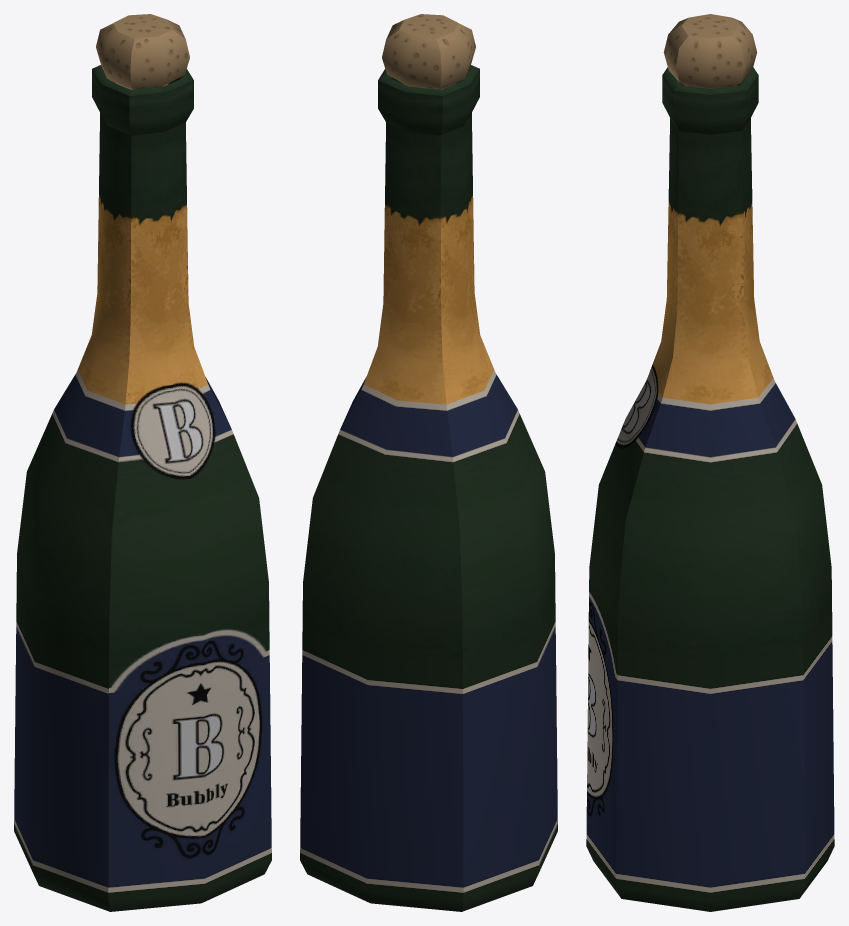
File: bubbly.glb
The picture shows the model from 3 angles, left to right: view 1: azimuth 30°, elevation 25°; view 2: azimuth 150°, elevation 25°; view 3: azimuth 270°, elevation 25°; orthographic projection.
Parts seen in each view (by area): view 1: Bottle_open, Cork; view 2: Bottle_open, Cork; view 3: Bottle_open, Cork.
Part boxes in pixels (bbox=[...]): Bottle_open: bbox=[14, 65, 271, 911]; Cork: bbox=[96, 14, 189, 89]; Bottle_open: bbox=[300, 65, 557, 911]; Cork: bbox=[382, 14, 475, 89]; Bottle_open: bbox=[586, 67, 834, 911]; Cork: bbox=[663, 14, 757, 88].
Size of the model in its own units: 0.1242 by 0.4541 by 0.1211.
Materials: 1 (1 with a texture image).
